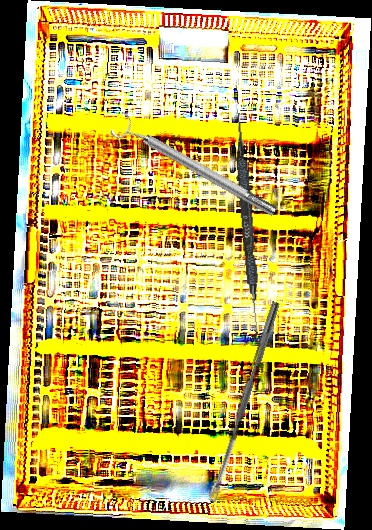Fixation Ring: (108, 109, 282, 226)
Spatula Surgical: (228, 112, 267, 342)
Surgical Spoon: (206, 300, 281, 503)
